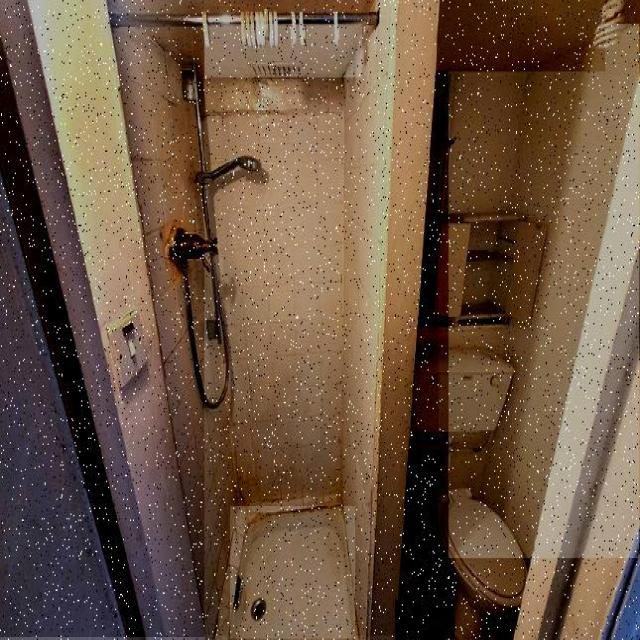Wall: (113, 0, 439, 636), (0, 0, 204, 637), (449, 24, 640, 558), (231, 508, 355, 639), (437, 0, 605, 71), (145, 24, 362, 77), (190, 258, 223, 397), (108, 0, 376, 15), (396, 600, 454, 640)
